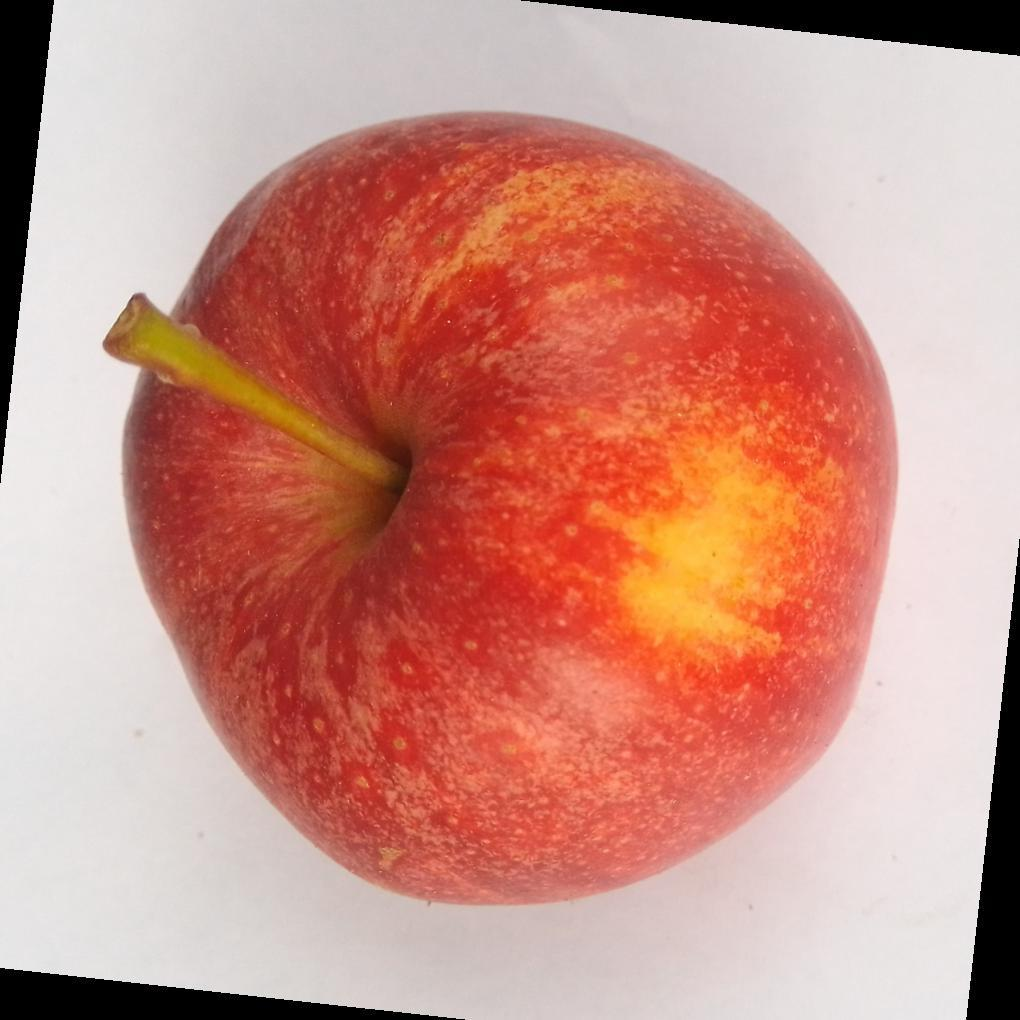FreshGuava: (101, 111, 900, 911)
